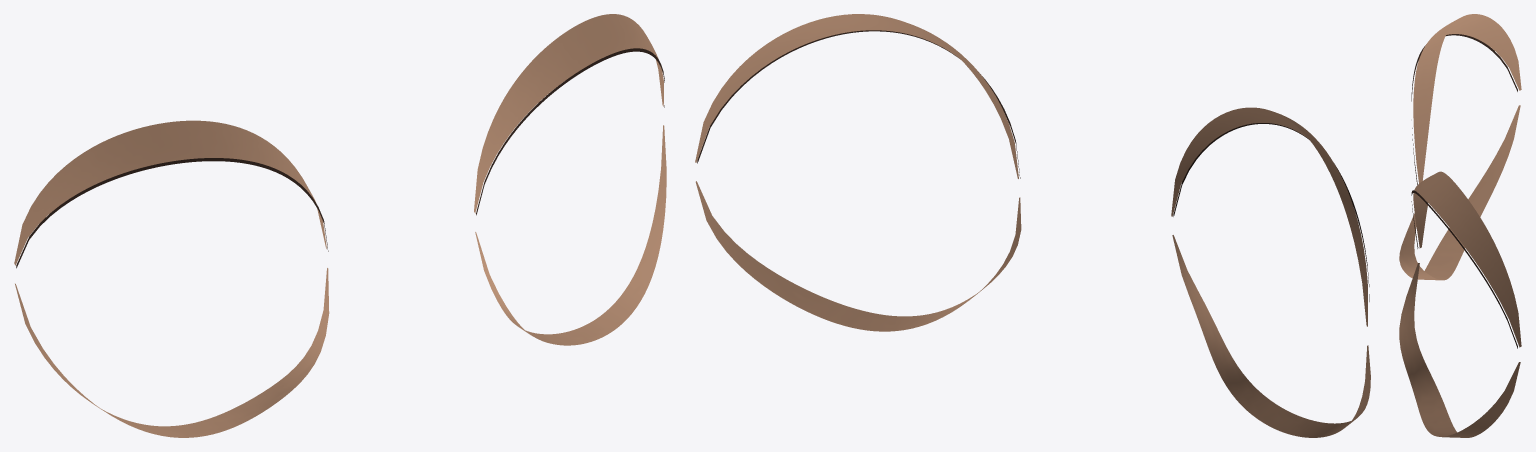
File: human-eyelids-v3.glb
The picture shows the model from 3 angles, left to right: view 1: azimuth 30°, elevation 25°; view 2: azimuth 150°, elevation 25°; view 3: azimuth 270°, elevation 25°; orthographic projection. The views are drawn at different scales.
Visible parts, largest first — view 1: Paupieres_Sculptees; view 2: Paupieres_Sculptees; view 3: Paupieres_Sculptees.
Boxes of the visible parts, box(x1,y1,x2,y2) form: Paupieres_Sculptees: box(14, 14, 666, 437); Paupieres_Sculptees: box(695, 14, 1370, 437); Paupieres_Sculptees: box(1399, 14, 1521, 437).
Bounding box in the file's own units: 0.3517 × 0.158 × 0.0708.
